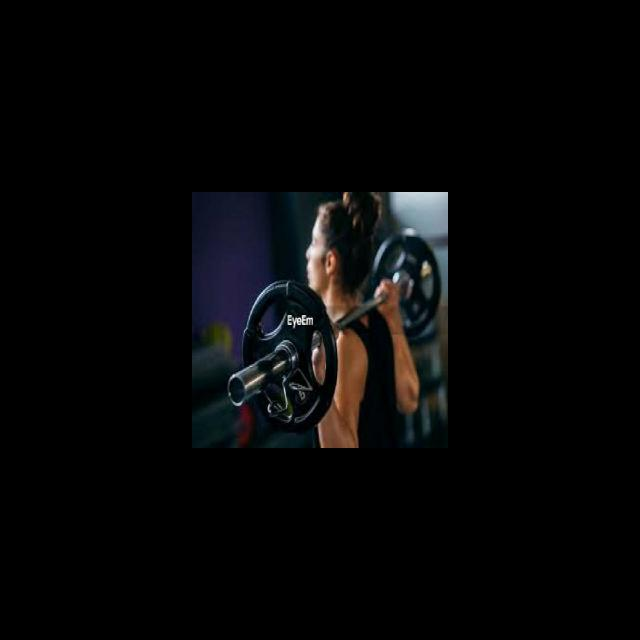barbell: (236, 275, 341, 440)
